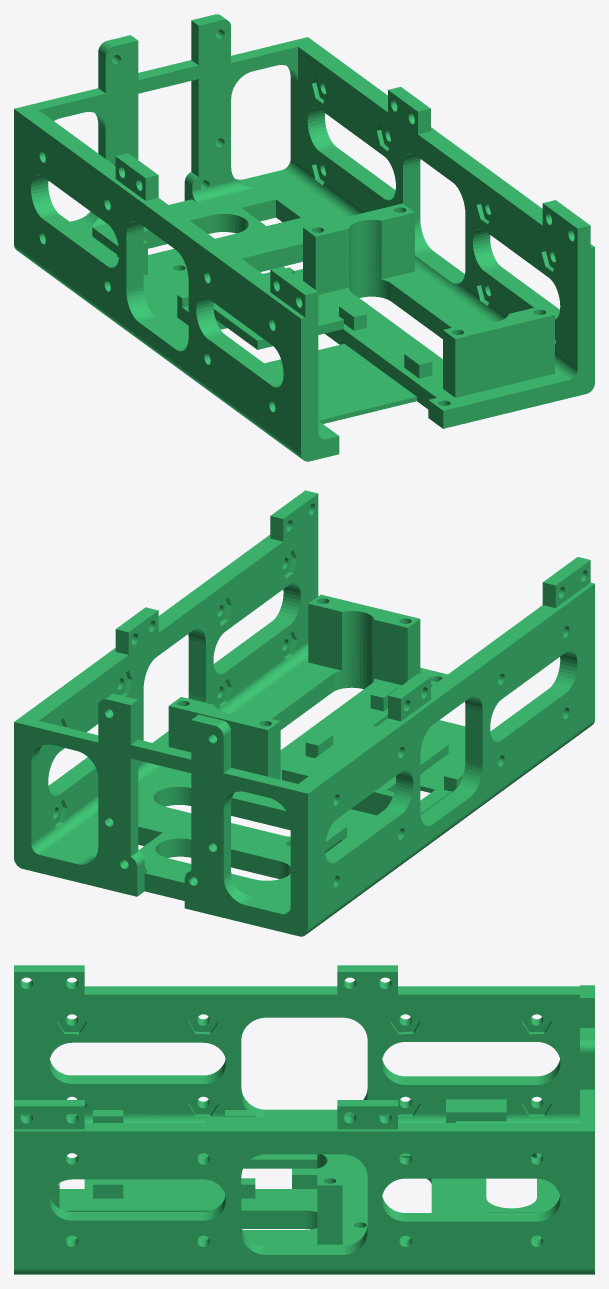
The model's file is BodySkeleton.glb.
3 views of the same model, one above another, from view 1: azimuth 30°, elevation 25°; view 2: azimuth 150°, elevation 25°; view 3: azimuth 270°, elevation 25° (orthographic).
Visible parts, largest first — view 1: BodySkeleton.stl; view 2: BodySkeleton.stl; view 3: BodySkeleton.stl.
Part boxes in pixels (x1,y1,x2,y2): BodySkeleton.stl: (14,14,594,461); BodySkeleton.stl: (14,490,594,936); BodySkeleton.stl: (14,965,594,1274).
Bounding box in the file's own units: 68 × 42 × 115.
